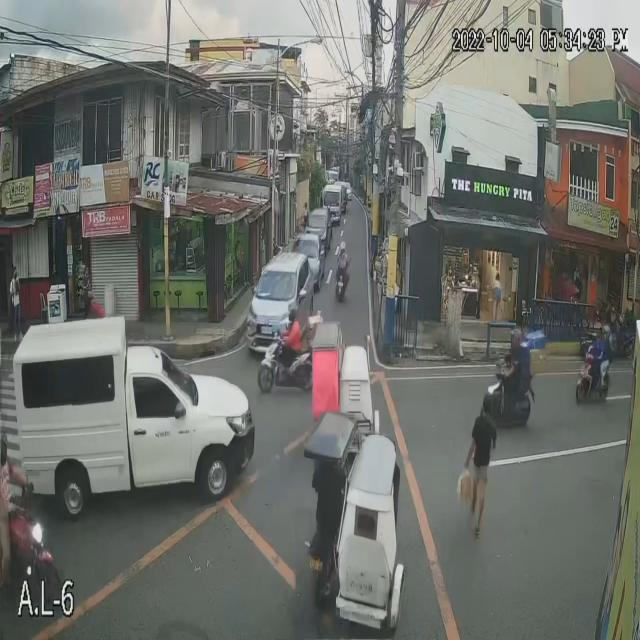full: (511, 330, 523, 351), (287, 303, 297, 322)
